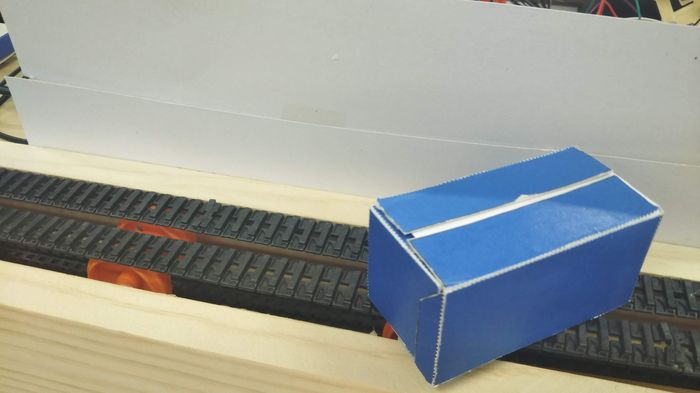box3: (365, 144, 663, 387)
